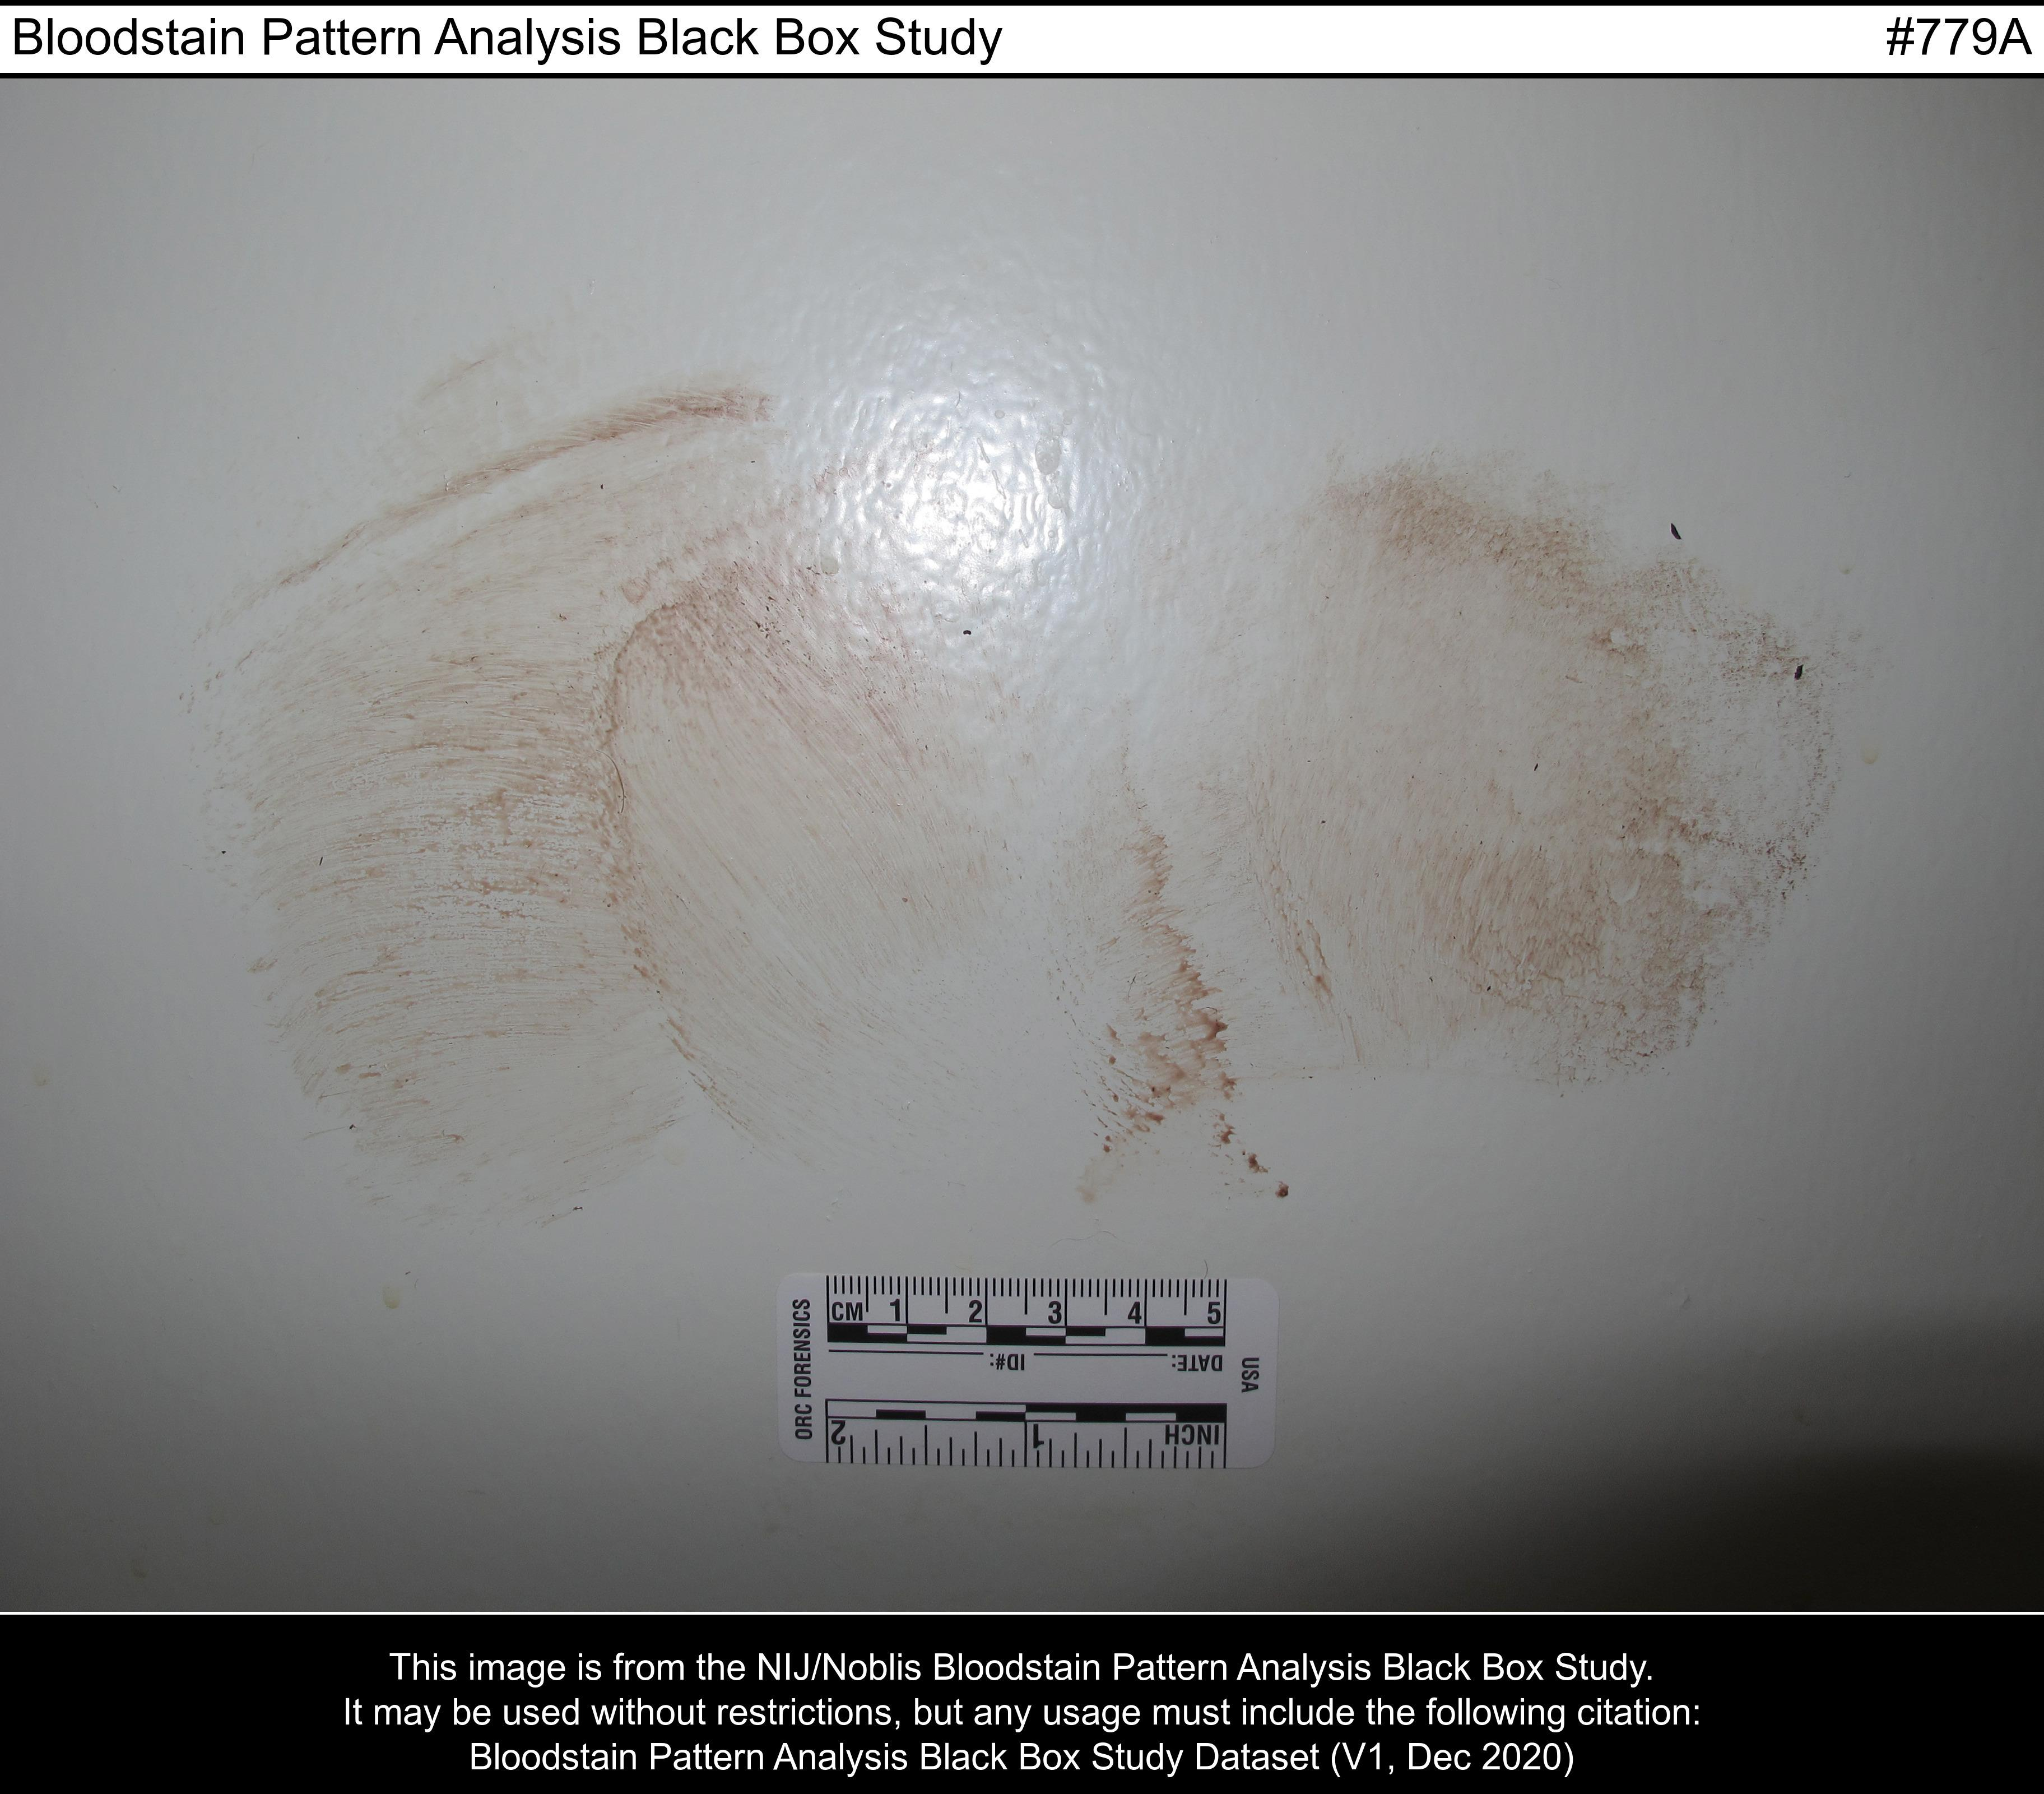Transfer: (70, 370, 1914, 1250)
